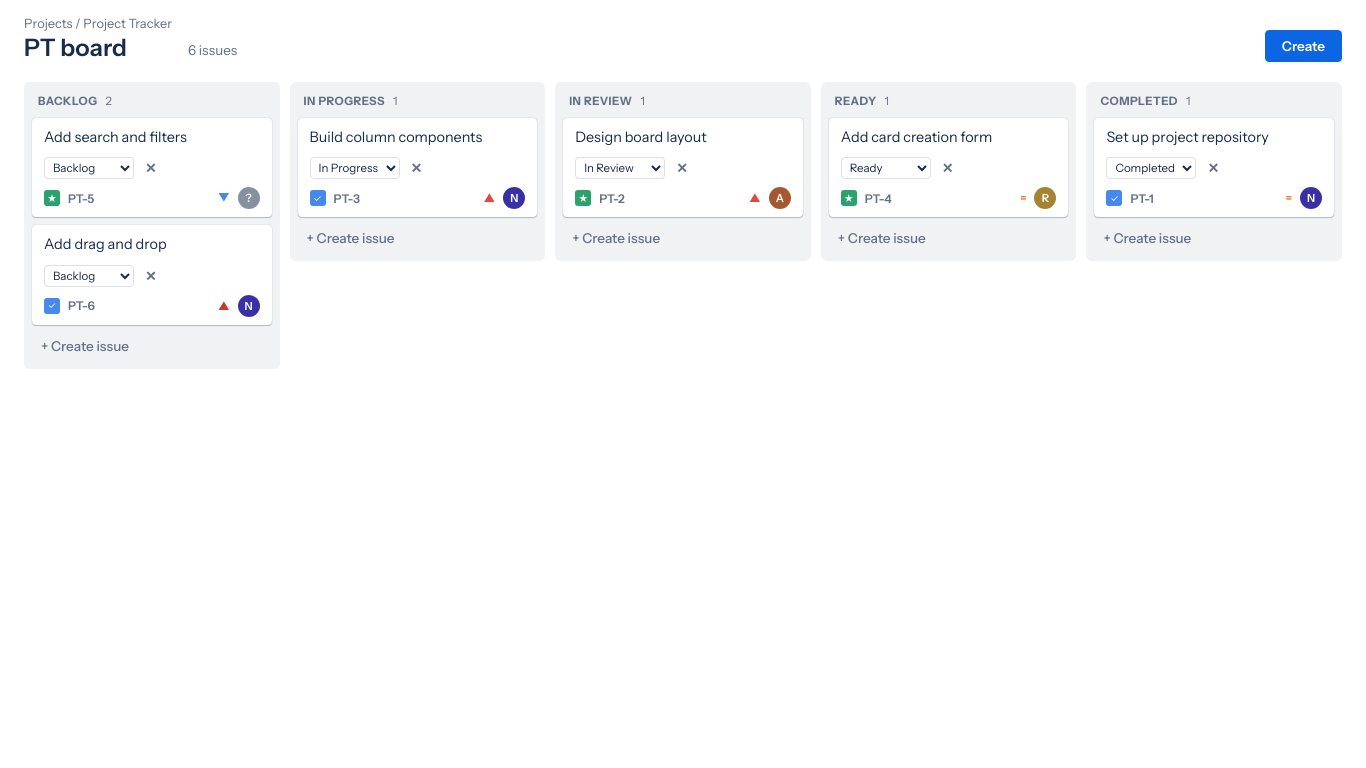
Test: Creating issues › does not create from the dialog without a summary
The image size is (1366, 768).
What coordinates should you click on to do the following:
click the button "Create"
I would click on:
 (1303, 46)
Its box is [1265,30,1342,62].
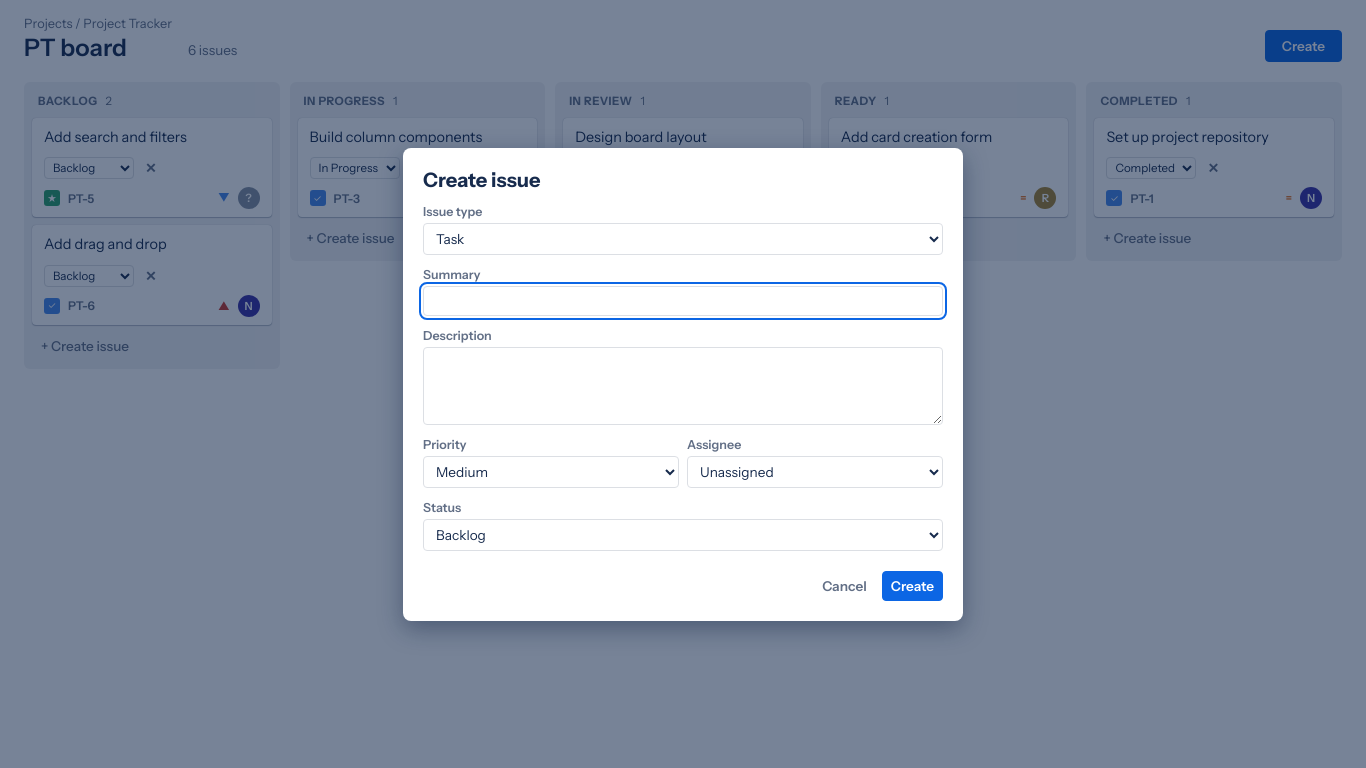
What coordinates should you click on to do the following:
click the button "Create"
I would click on:
 (912, 586)
Its box is [882,570,943,600].
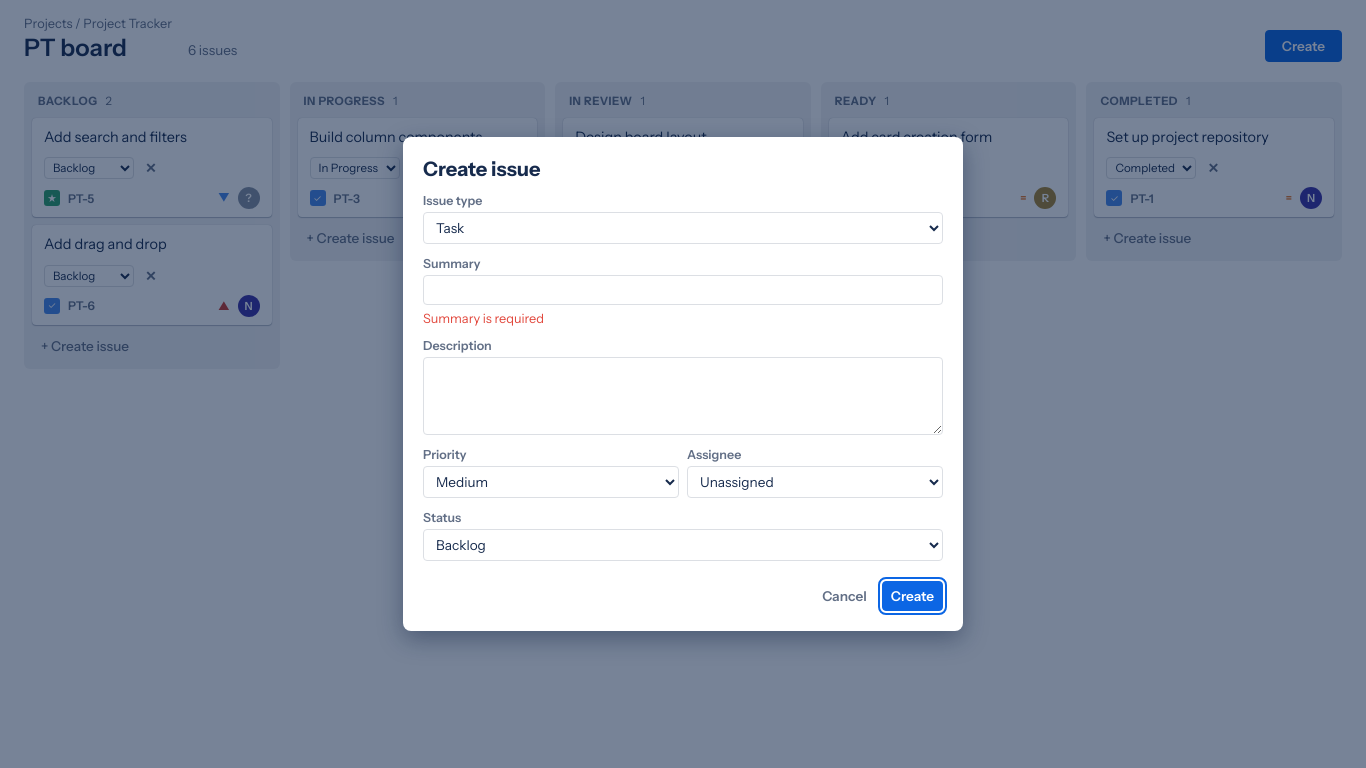
Expected: the dialog is shown, [403,137,963,631]
Expected: the text "Summary is required" is shown, [423,311,544,326]
